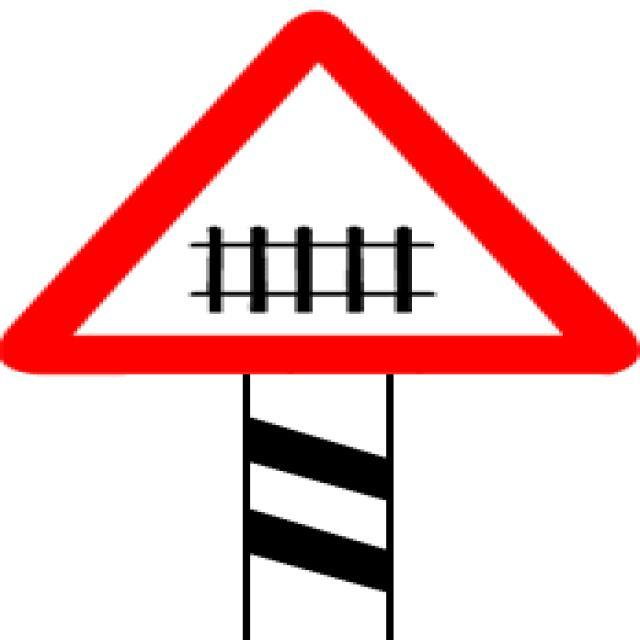guarded level crossing: (24, 17, 618, 375)
